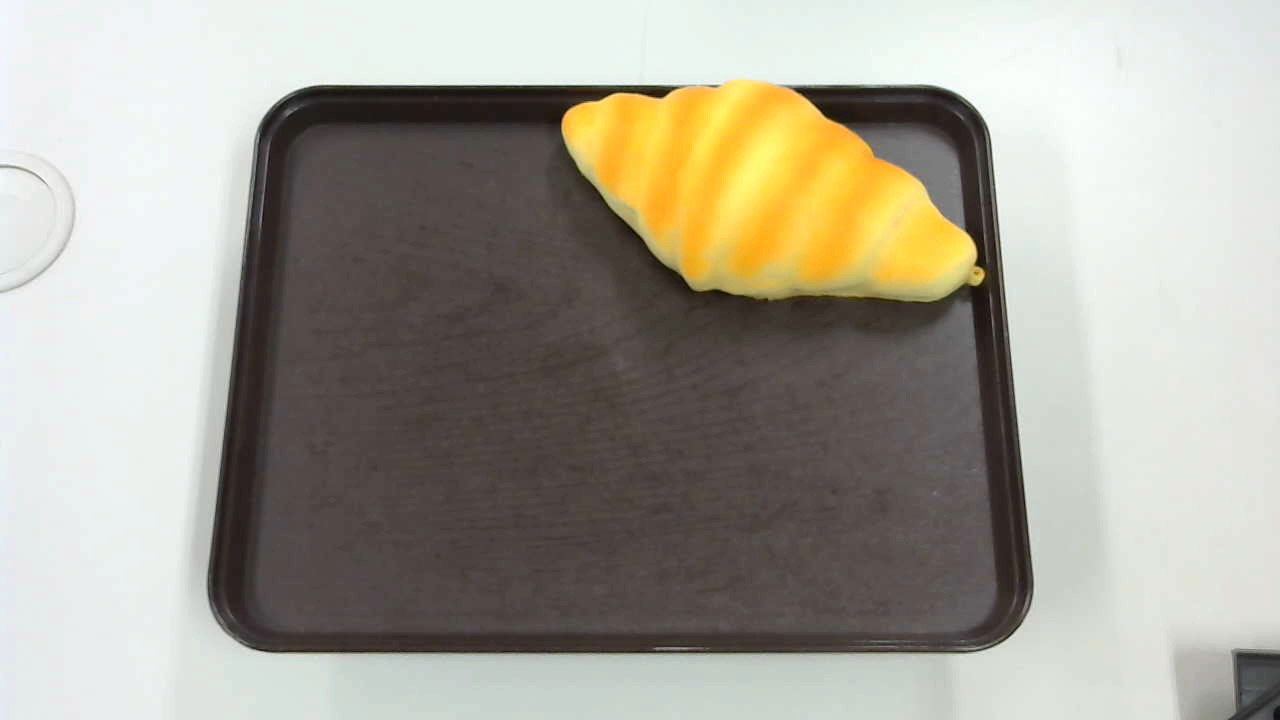croissant: (562, 77, 984, 302)
